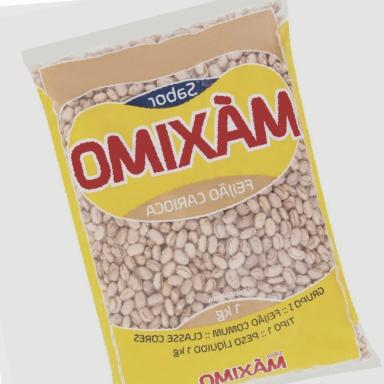beans package: (24, 0, 372, 383)
